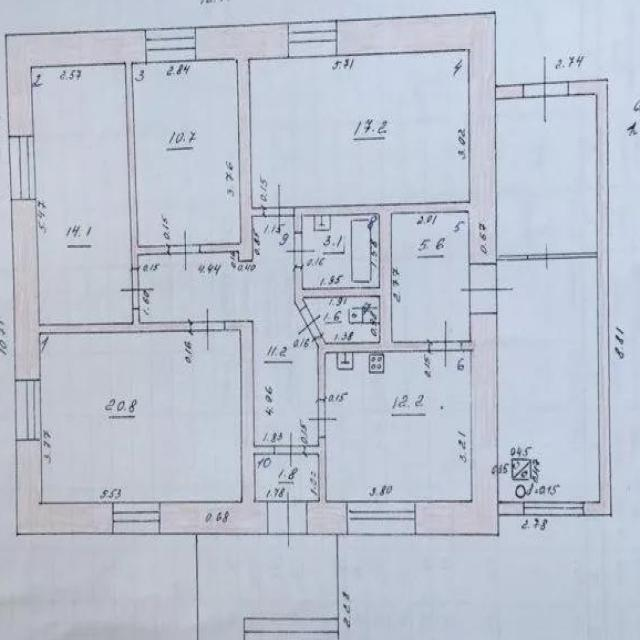Bathrooms: (303, 216, 379, 287), (304, 298, 380, 343)
Corridors: (139, 218, 318, 445), (498, 260, 599, 502), (497, 95, 596, 254), (197, 535, 338, 614), (393, 214, 469, 341), (255, 456, 317, 500)
Doors: (523, 55, 569, 125), (459, 264, 516, 314), (266, 490, 307, 551), (428, 318, 462, 371), (263, 182, 294, 234), (191, 307, 226, 352), (167, 228, 201, 272), (119, 268, 154, 310), (274, 428, 306, 466), (527, 239, 564, 271), (307, 399, 337, 438), (295, 305, 325, 343), (286, 231, 315, 268)
LBwalls: (337, 12, 525, 264), (416, 313, 523, 536), (159, 320, 268, 535), (195, 22, 289, 261), (569, 79, 612, 516), (5, 29, 146, 134), (16, 441, 114, 536), (10, 200, 41, 381), (379, 214, 392, 342), (306, 500, 347, 535)
Offices: (41, 332, 241, 502), (250, 51, 469, 206), (32, 64, 132, 323), (326, 352, 470, 500), (134, 60, 240, 245)
Stairs: (199, 615, 339, 640)
Walls: (125, 62, 168, 270), (316, 338, 429, 401), (293, 202, 470, 233), (294, 267, 380, 312), (40, 309, 191, 334), (304, 437, 327, 502), (200, 243, 238, 253), (254, 445, 274, 455), (564, 253, 596, 259), (224, 320, 240, 330), (498, 255, 527, 260), (460, 340, 471, 352), (252, 207, 265, 217)
Windows: (346, 499, 416, 536), (288, 19, 337, 59), (8, 135, 37, 201), (145, 26, 196, 63), (15, 380, 42, 441), (112, 501, 161, 534), (523, 501, 584, 515)
